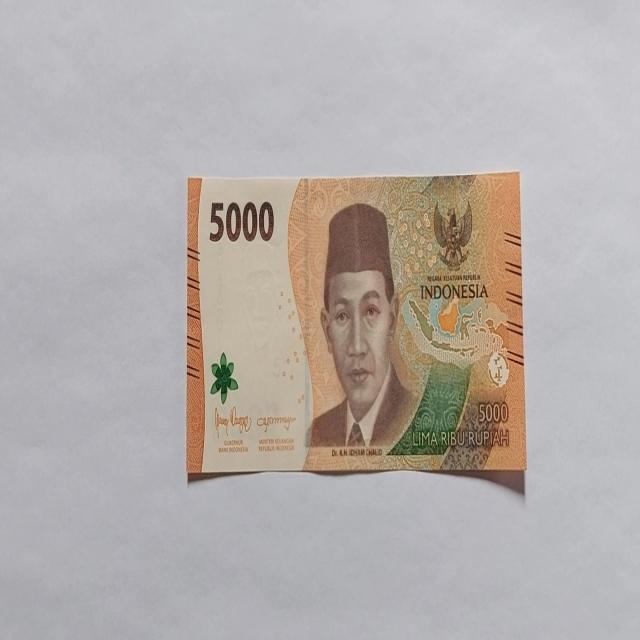lima ribu rupiah: (186, 172, 525, 482), (302, 201, 420, 453)
